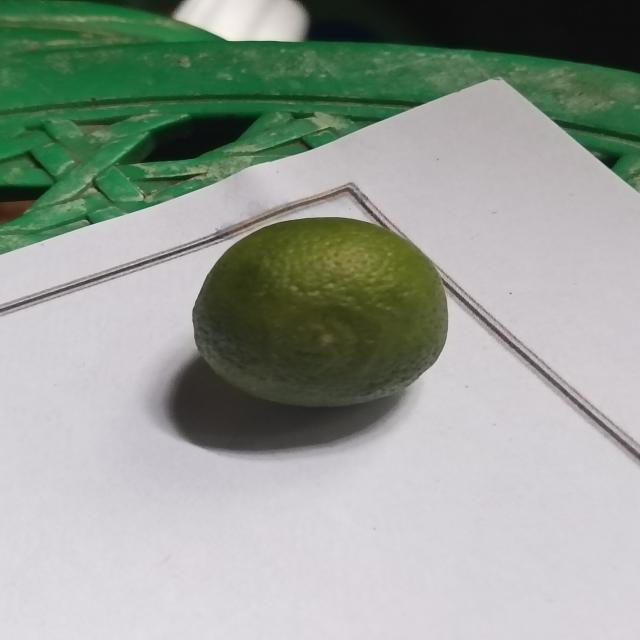heathy: (191, 215, 451, 411)
